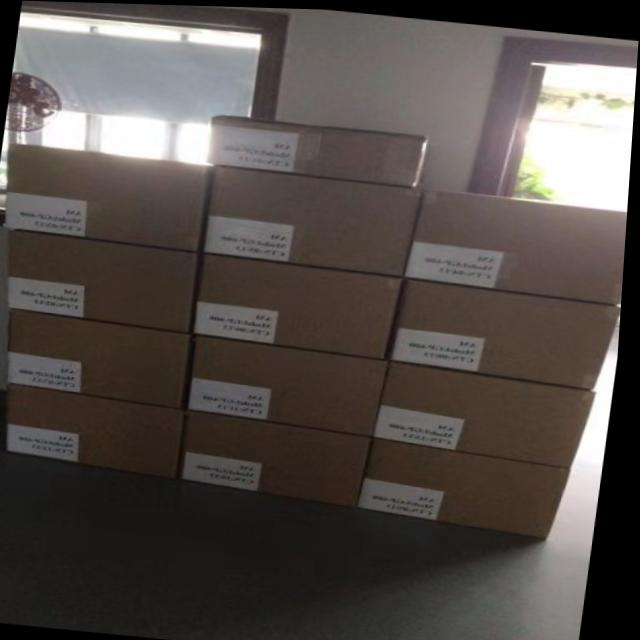box: (406, 186, 630, 299), (393, 277, 624, 385), (207, 164, 425, 273), (379, 359, 600, 464), (6, 143, 212, 251), (198, 252, 404, 357), (363, 436, 578, 535), (191, 334, 394, 435), (12, 230, 201, 331), (185, 411, 377, 505), (11, 308, 194, 405), (9, 383, 189, 478), (209, 112, 429, 183)
